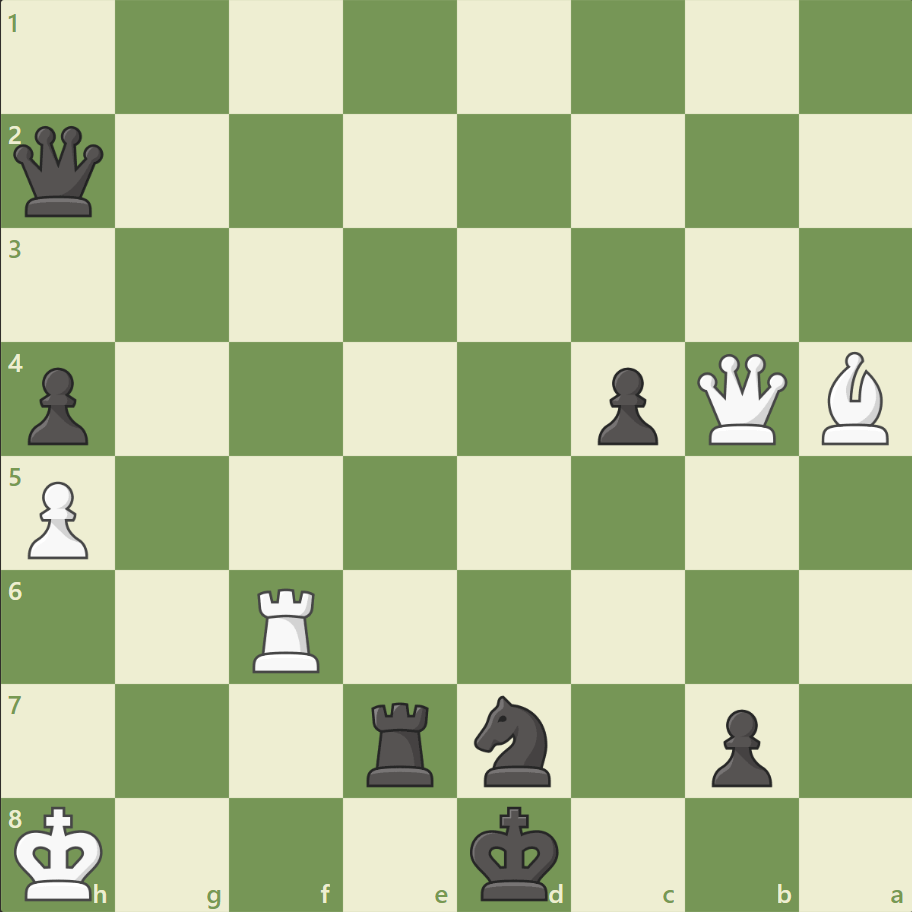B: (812, 347, 896, 449)
K: (11, 798, 111, 906)
P: (20, 473, 95, 564)
Q: (691, 349, 790, 449)
R: (246, 579, 329, 676)
k: (465, 798, 565, 906)
n: (465, 688, 562, 791)
p: (701, 700, 776, 791), (20, 359, 95, 450), (588, 359, 662, 450)
q: (10, 122, 109, 222)
r: (360, 693, 442, 790)
